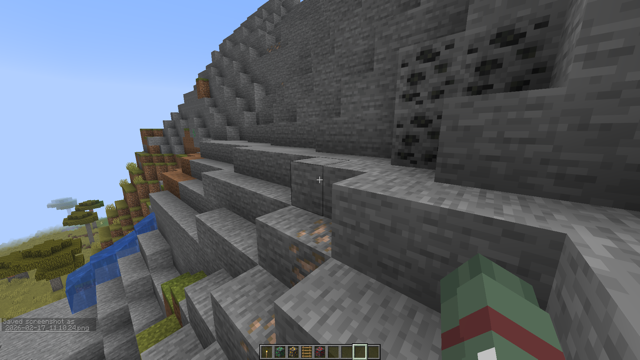coal: (391, 11, 562, 166)
iron: (284, 215, 337, 276), (236, 308, 280, 360)
